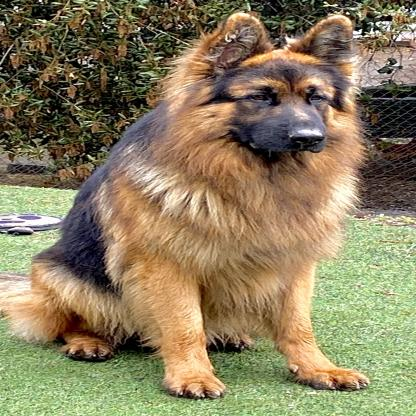german shepherd: (0, 12, 366, 400)
